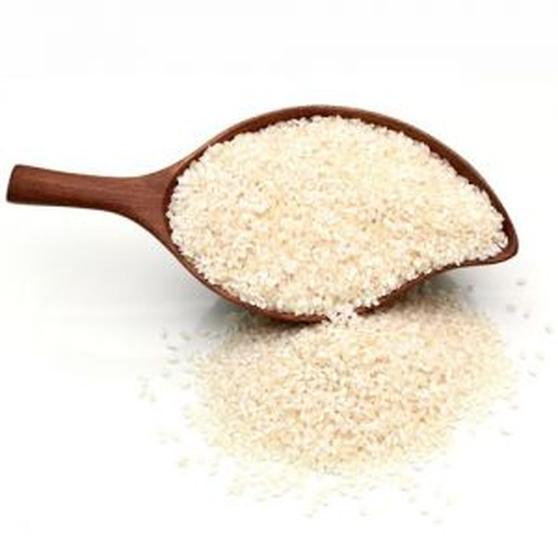rice: (169, 118, 515, 320), (187, 286, 518, 484)
